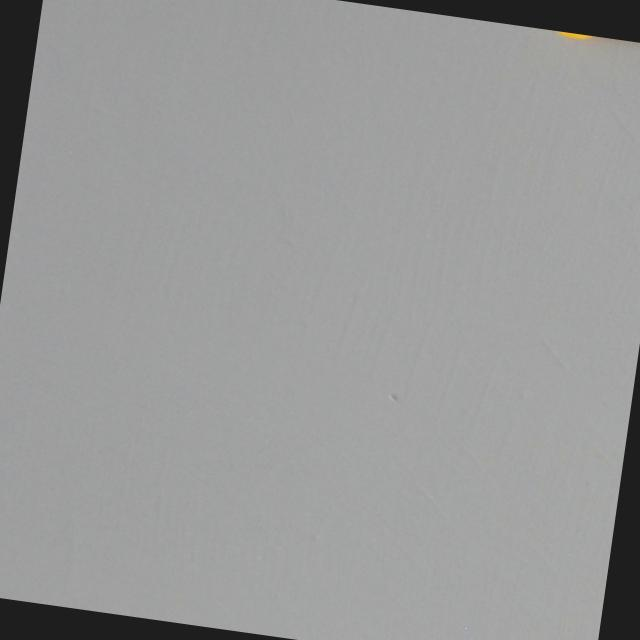dañado: (538, 28, 640, 53)
